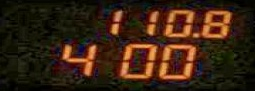-: (190, 32, 200, 37)
0: (155, 43, 197, 79), (117, 42, 157, 79), (161, 8, 194, 37)
1: (107, 9, 123, 36), (144, 9, 158, 35)
4: (57, 43, 97, 76)
8: (198, 9, 231, 38)
